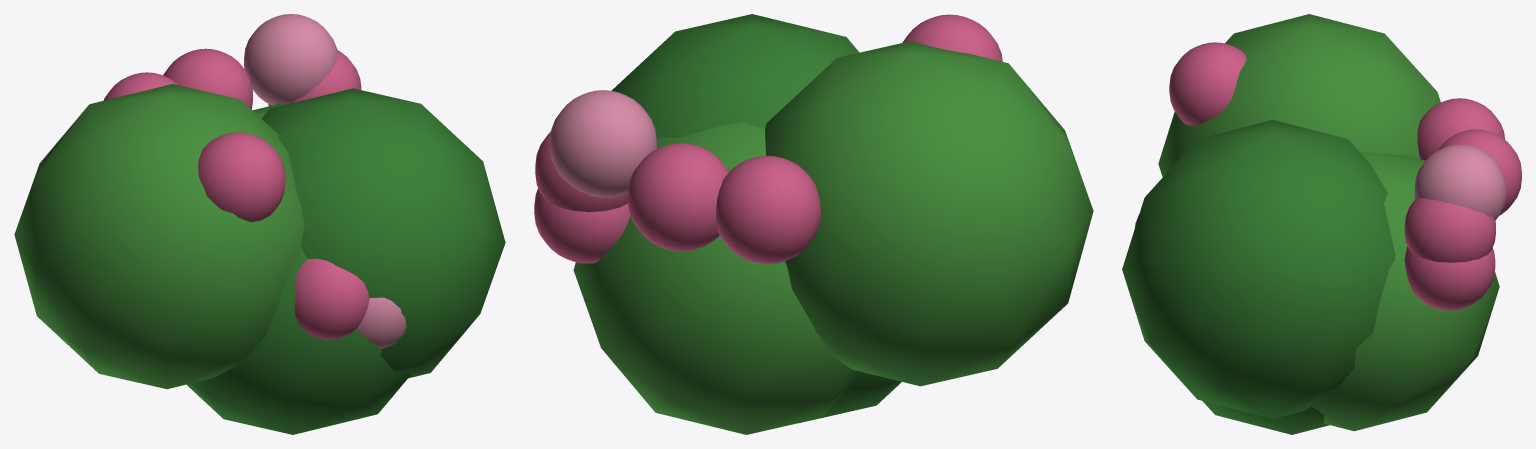
The model's file is roseBush.glb.
The picture shows the model from 3 angles, left to right: view 1: azimuth 30°, elevation 25°; view 2: azimuth 150°, elevation 25°; view 3: azimuth 270°, elevation 25°; orthographic projection. The views are drawn at different scales.
Parts seen in each view (by area): view 1: farm_roseBush; view 2: farm_roseBush; view 3: farm_roseBush.
Boxes of the visible parts, bbox=[...] form: farm_roseBush: bbox=[14, 14, 505, 434]; farm_roseBush: bbox=[534, 14, 1093, 434]; farm_roseBush: bbox=[1122, 14, 1521, 434].
Bounding box in the file's own units: 1.35 × 1.05 × 1.12.
